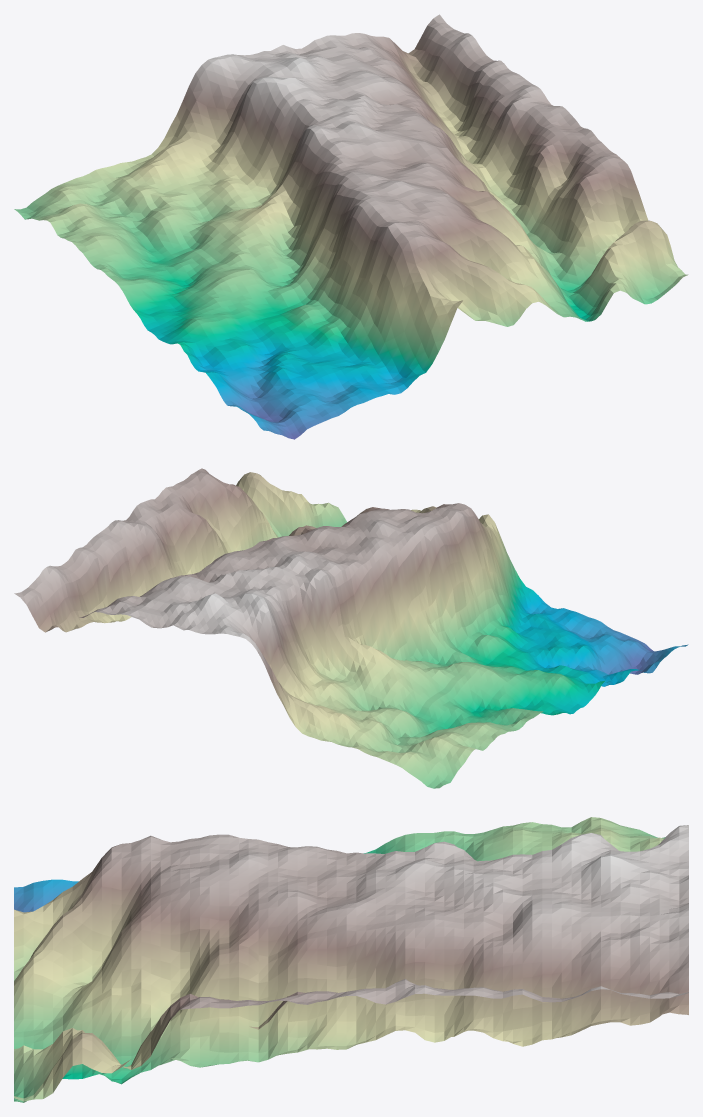
File: 002714_terrain_only.glb
3 views of the same model, one above another, from view 1: azimuth 30°, elevation 25°; view 2: azimuth 150°, elevation 25°; view 3: azimuth 270°, elevation 25° (orthographic). The views are drawn at different scales.
Visible parts, largest first — view 1: terrain; view 2: terrain; view 3: terrain.
Boxes of the visible parts, x1,y1,x2,y2 form: terrain: (14, 14, 688, 439); terrain: (14, 468, 688, 788); terrain: (14, 817, 688, 1102).
Size of the model in its own units: 0.0183 by 0.00681 by 0.0186.
